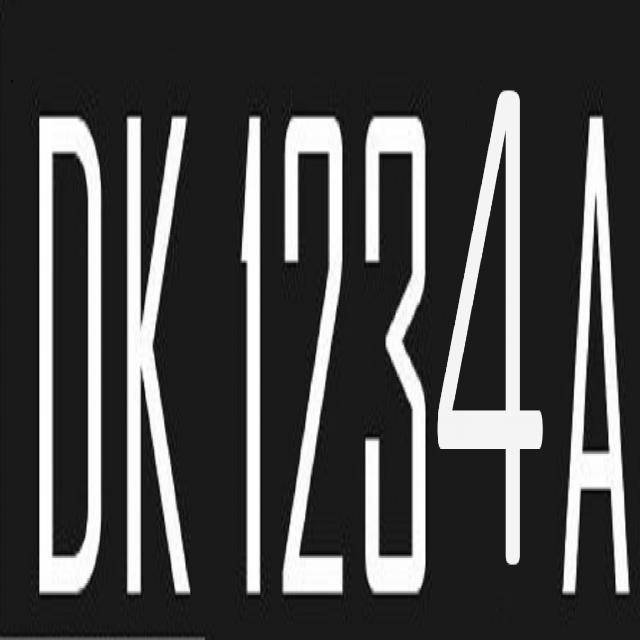1: (226, 104, 274, 596)
2: (283, 108, 353, 610)
3: (351, 104, 438, 611)
4: (438, 89, 548, 570)
A: (563, 100, 640, 612)
D: (23, 101, 122, 599)
K: (117, 111, 205, 606)
